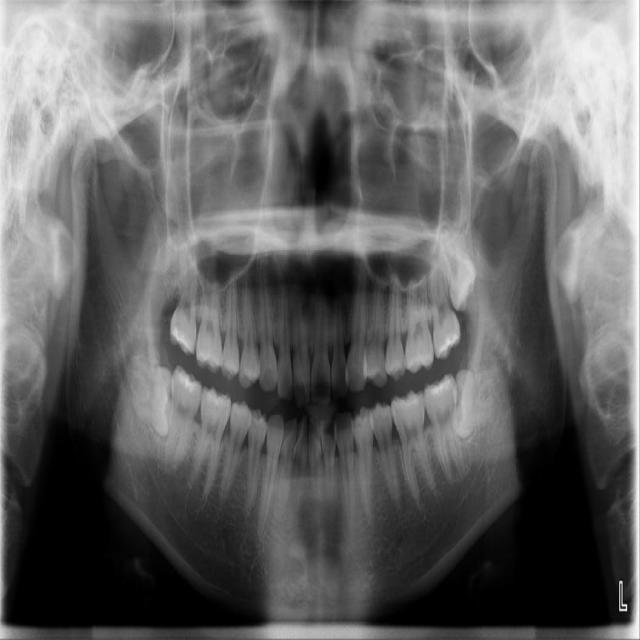52: (159, 362, 217, 420), (415, 371, 466, 420), (169, 307, 196, 355), (433, 313, 461, 359)
73: (607, 568, 616, 573)
BioHorizons Implant: (425, 253, 463, 359)
BioLife Implant: (434, 220, 484, 314)
Biomet 3i Implant: (449, 363, 499, 441)
Blue Sky Bio Implant: (422, 371, 465, 484)
Caries: (169, 242, 198, 355)
Implant: (162, 364, 206, 474)
Keystone Dental Implant: (126, 358, 175, 438)
